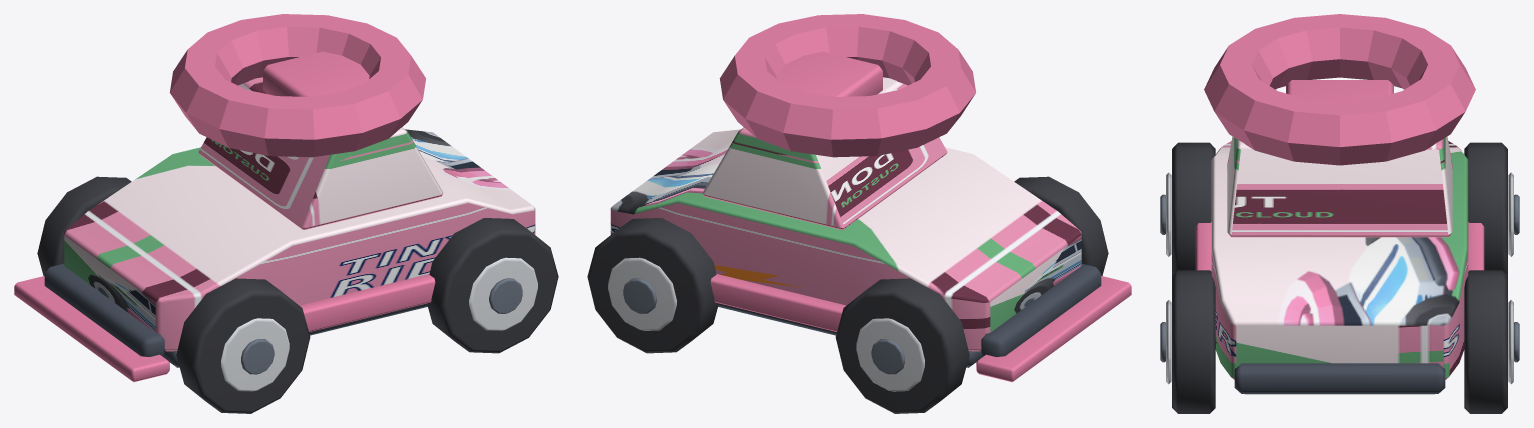
3 renders of one model, left to right at view 1: azimuth 30°, elevation 25°; view 2: azimuth 150°, elevation 25°; view 3: azimuth 270°, elevation 25°, orthographic. The views are drawn at different scales.
Parts seen in each view (by area): view 1: SS-05_connected_shell, real donut ring, SS-05_cabin, Tire, Tire.002, custom chin, front bumper, custom side guard, custom equipment, Tire.001, Rim, Rim.002 (+3 smaller); view 2: SS-05_connected_shell, real donut ring, SS-05_cabin, Tire.001, Tire.003, custom chin, front bumper, custom side guard.001, custom equipment, Tire, Rim.001, Rim.003 (+3 smaller); view 3: SS-05_connected_shell, real donut ring, SS-05_cabin, rear bumper, Tire.002, Tire.003, Tire, Tire.001, custom equipment, custom side guard, custom side guard.001, Rim (+3 smaller).
Part boxes in pixels (bbox=[...]): SS-05_connected_shell: bbox=[64, 129, 535, 351]; real donut ring: bbox=[169, 14, 426, 157]; SS-05_cabin: bbox=[198, 77, 443, 230]; Tire: bbox=[176, 278, 310, 413]; Tire.002: bbox=[427, 218, 558, 353]; custom chin: bbox=[14, 276, 169, 382]; front bumper: bbox=[44, 263, 165, 356]; custom side guard: bbox=[299, 274, 435, 331]; custom equipment: bbox=[263, 51, 369, 96]; Tire.001: bbox=[37, 176, 131, 275]; Rim: bbox=[221, 318, 289, 391]; Rim.002: bbox=[469, 257, 537, 330]; SS-05_connected_shell: bbox=[610, 129, 1081, 351]; real donut ring: bbox=[719, 14, 976, 157]; SS-05_cabin: bbox=[702, 77, 947, 230]; Tire.001: bbox=[835, 278, 969, 413]; Tire.003: bbox=[587, 218, 718, 353]; custom chin: bbox=[976, 276, 1131, 382]; front bumper: bbox=[980, 263, 1101, 356]; custom side guard.001: bbox=[710, 274, 846, 331]; custom equipment: bbox=[776, 51, 882, 96]; Tire: bbox=[1014, 176, 1108, 275]; Rim.001: bbox=[856, 318, 924, 391]; Rim.003: bbox=[608, 257, 676, 330]; SS-05_connected_shell: bbox=[1211, 141, 1468, 379]; real donut ring: bbox=[1204, 14, 1475, 165]; SS-05_cabin: bbox=[1227, 136, 1452, 237]; rear bumper: bbox=[1234, 363, 1445, 393]; Tire.002: bbox=[1172, 270, 1215, 413]; Tire.003: bbox=[1464, 270, 1507, 413]; Tire: bbox=[1172, 142, 1215, 275]; Tire.001: bbox=[1464, 142, 1507, 275]; custom equipment: bbox=[1286, 80, 1393, 101]; custom side guard: bbox=[1195, 222, 1211, 271]; custom side guard.001: bbox=[1468, 222, 1484, 271]; Rim: bbox=[1166, 172, 1171, 256].
Size of the model in its own units: 309 by 183 by 214.
